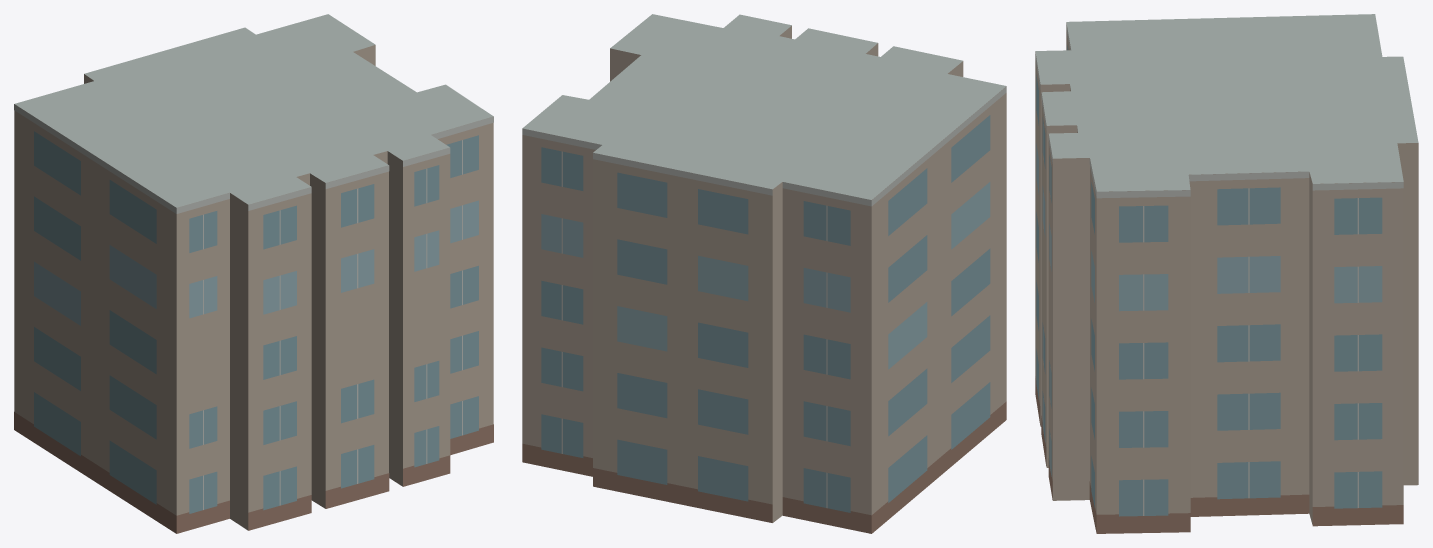
Rendered from survey-upis-32916455.glb.
3 views of the same model, side by side, from view 1: azimuth 30°, elevation 25°; view 2: azimuth 150°, elevation 25°; view 3: azimuth 270°, elevation 25° (orthographic). The views are drawn at different scales.
Visible parts, largest first — view 1: survey-upis-32916455.tmp; view 2: survey-upis-32916455.tmp; view 3: survey-upis-32916455.tmp.
Boxes of the visible parts, box(x1,y1,x2,y2) form: survey-upis-32916455.tmp: box(14, 14, 493, 533); survey-upis-32916455.tmp: box(522, 14, 1006, 533); survey-upis-32916455.tmp: box(1035, 14, 1418, 533).
Bounding box in the file's own units: 14.15 × 12.7 × 12.9.
